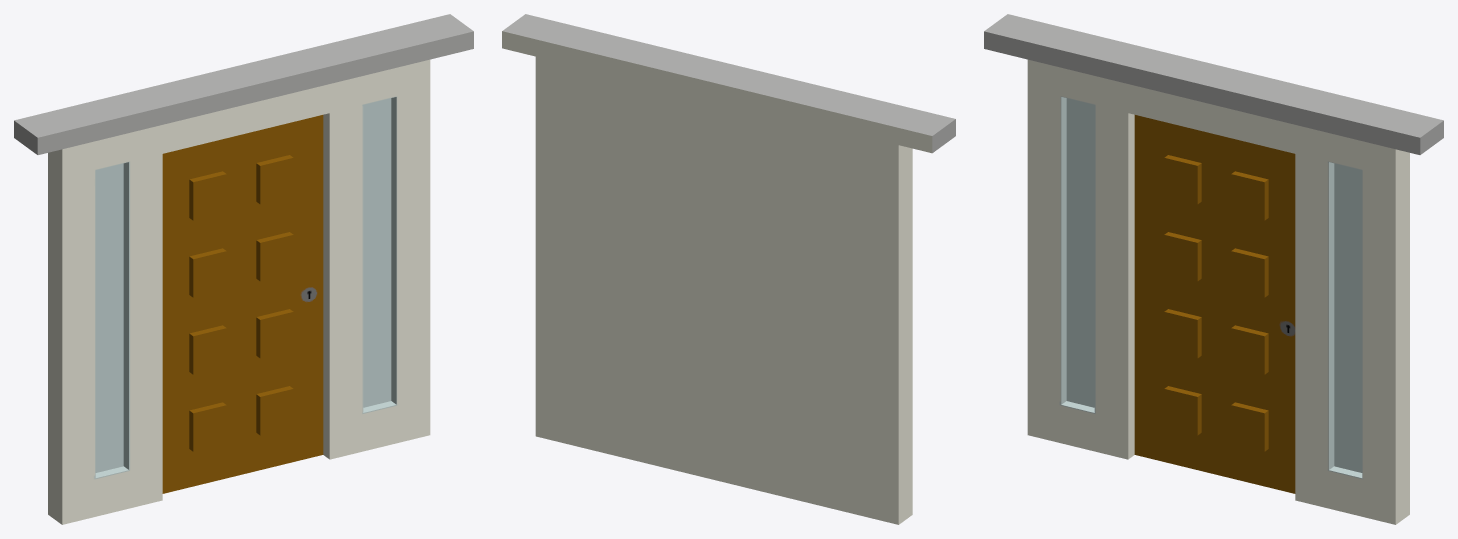
Rendered from Puerta_Edificio(con FBX).fbx.
3 views of the same model, side by side, from view 1: azimuth 30°, elevation 25°; view 2: azimuth 150°, elevation 25°; view 3: azimuth 330°, elevation 25° (orthographic).
Parts seen in each view (by area): view 1: pCube1; view 2: pCube1; view 3: pCube1.
Boxes of the visible parts, left/top/right/bottom form: pCube1: left=14, top=14, right=473, bottom=524; pCube1: left=502, top=14, right=955, bottom=524; pCube1: left=984, top=14, right=1443, bottom=524.
Bounding box in the file's own units: 2.96 × 2.61 × 0.2795.
